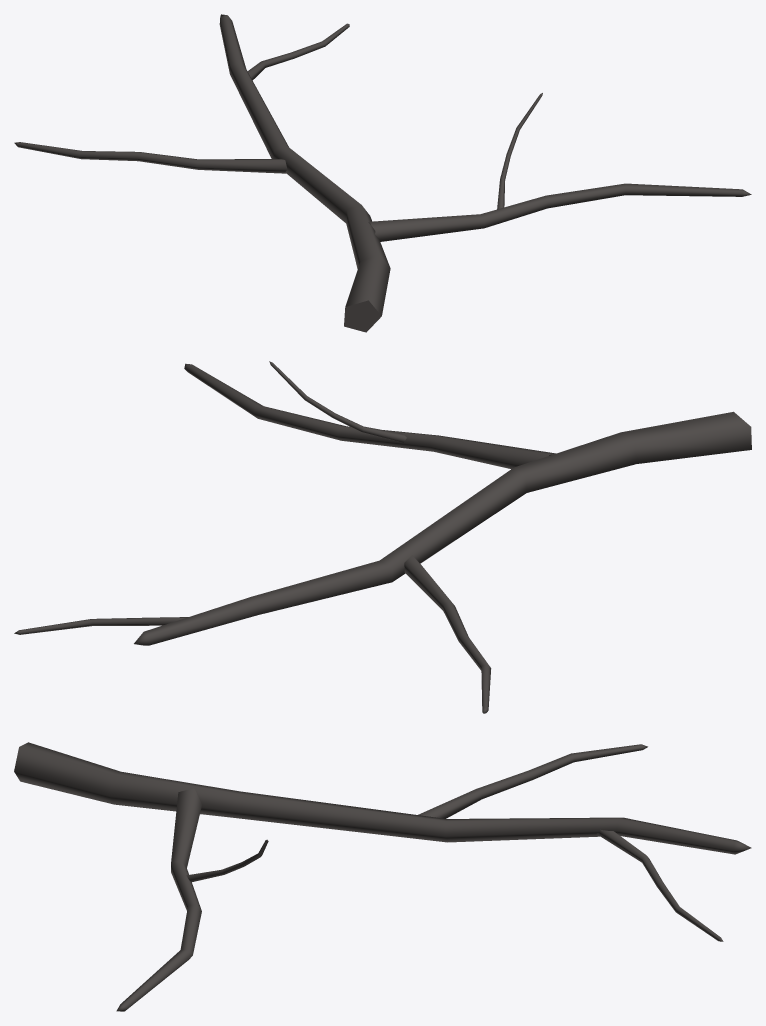
The model's file is P_branch_dead_04.fbx.
3 views of the same model, one above another, from view 1: azimuth 30°, elevation 25°; view 2: azimuth 150°, elevation 25°; view 3: azimuth 270°, elevation 25° (orthographic). The views are drawn at different scales.
Parts seen in each view (by area): view 1: lod1; view 2: lod1; view 3: lod1.
Boxes of the visible parts, x1=… form: lod1: x1=14, y1=14, x2=751, y2=332; lod1: x1=14, y1=361, x2=751, y2=713; lod1: x1=14, y1=742, x2=751, y2=1011.
Size of the model in its own units: 50.9 by 8.98 by 59.14.
